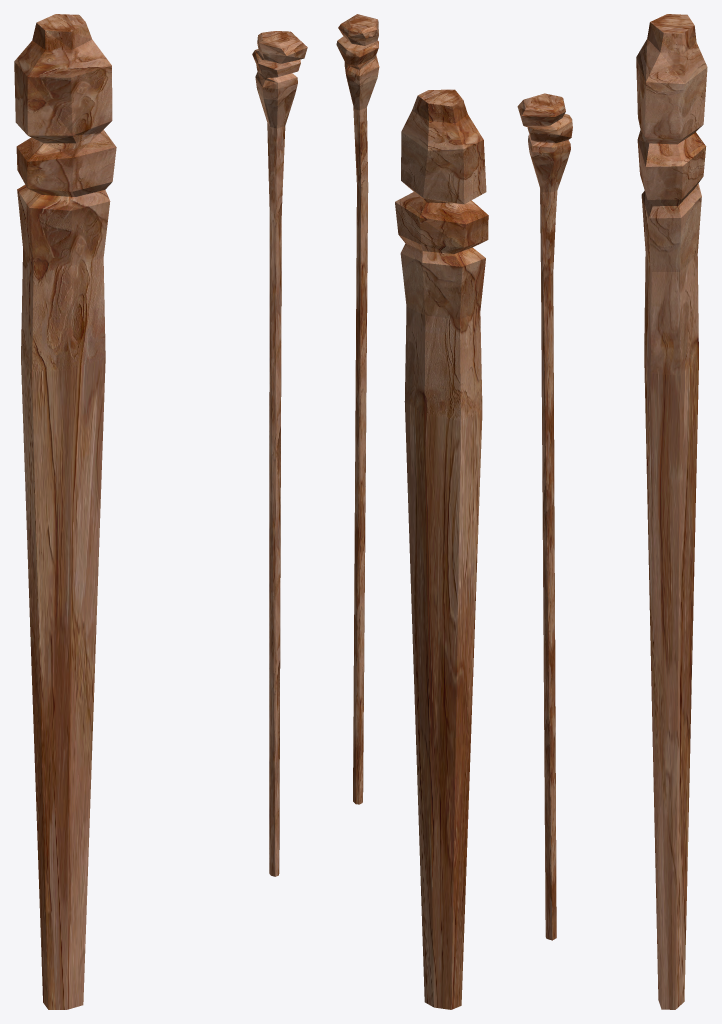
Rendered from STG08_ON_12.obj.
The picture shows the model from 3 angles, left to right: view 1: azimuth 30°, elevation 25°; view 2: azimuth 150°, elevation 25°; view 3: azimuth 270°, elevation 25°; orthographic projection. The views are drawn at different scales.
Parts seen in each view (by area): view 1: Object_2; view 2: Object_2; view 3: Object_2.
Part boxes in pixels (<box>): Object_2: <box>14,14,307,1009</box>; Object_2: <box>336,14,488,1009</box>; Object_2: <box>517,14,707,1009</box>.
Size of the model in its own units: 3455 by 15108 by 2658.
Materials: 2 (2 with a texture image).
